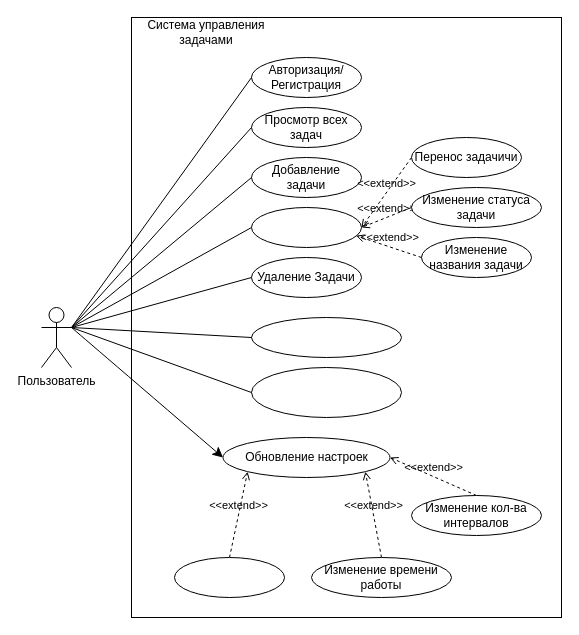
The diagram is 579 pixels wide and 635 high, and some of its shapes have lost their labels. Each missing label, with the box of its shape:
Завершение ссесии помодоро: (250, 366, 402, 418)
Изменение времяени перерыва: (174, 556, 284, 598)
Редактирование Задачи: (250, 206, 362, 248)
Создание ссесии помодоро: (250, 316, 402, 358)
